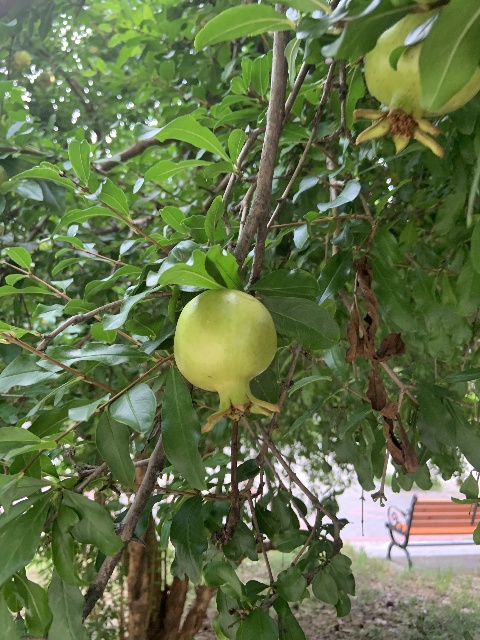mid-growth: (352, 6, 480, 156), (173, 287, 280, 433), (13, 50, 30, 69)
